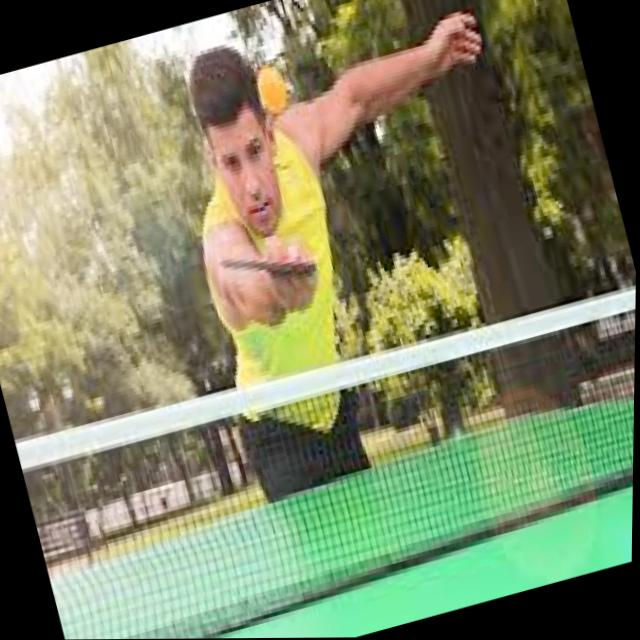TT Net: (15, 290, 636, 639)
TT Racket: (217, 248, 315, 285)
TT Table: (49, 395, 634, 639)
